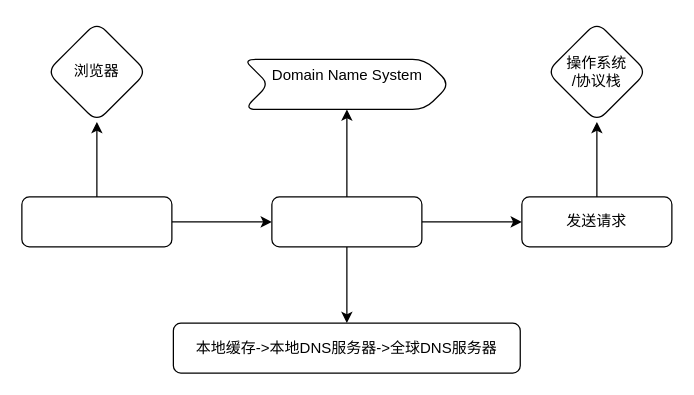
The diagram is 694 pixels wide and 395 high, and some of its shapes have lost their labels. The centre of each missing label's shape, as x and y in pixels:
"DNS查询" belongs at (x=346, y=221).
"生成Http请求" belongs at (x=96, y=221).
